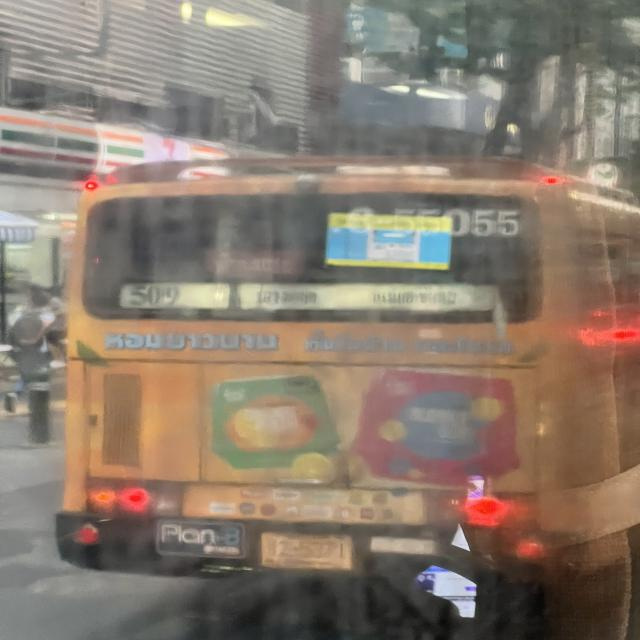BMTA-bus: (43, 141, 640, 585)
